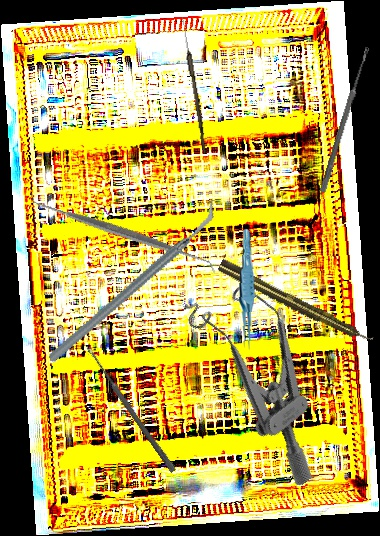Chopper: (18, 199, 248, 365)
Handpiece: (216, 257, 376, 349)
Spatula Surgical: (29, 141, 217, 325)
Speculum: (166, 260, 374, 489)
Surgical Spoon: (85, 346, 177, 473), (319, 45, 371, 194), (179, 16, 209, 154)
Tissue Forceps: (233, 228, 260, 353)
